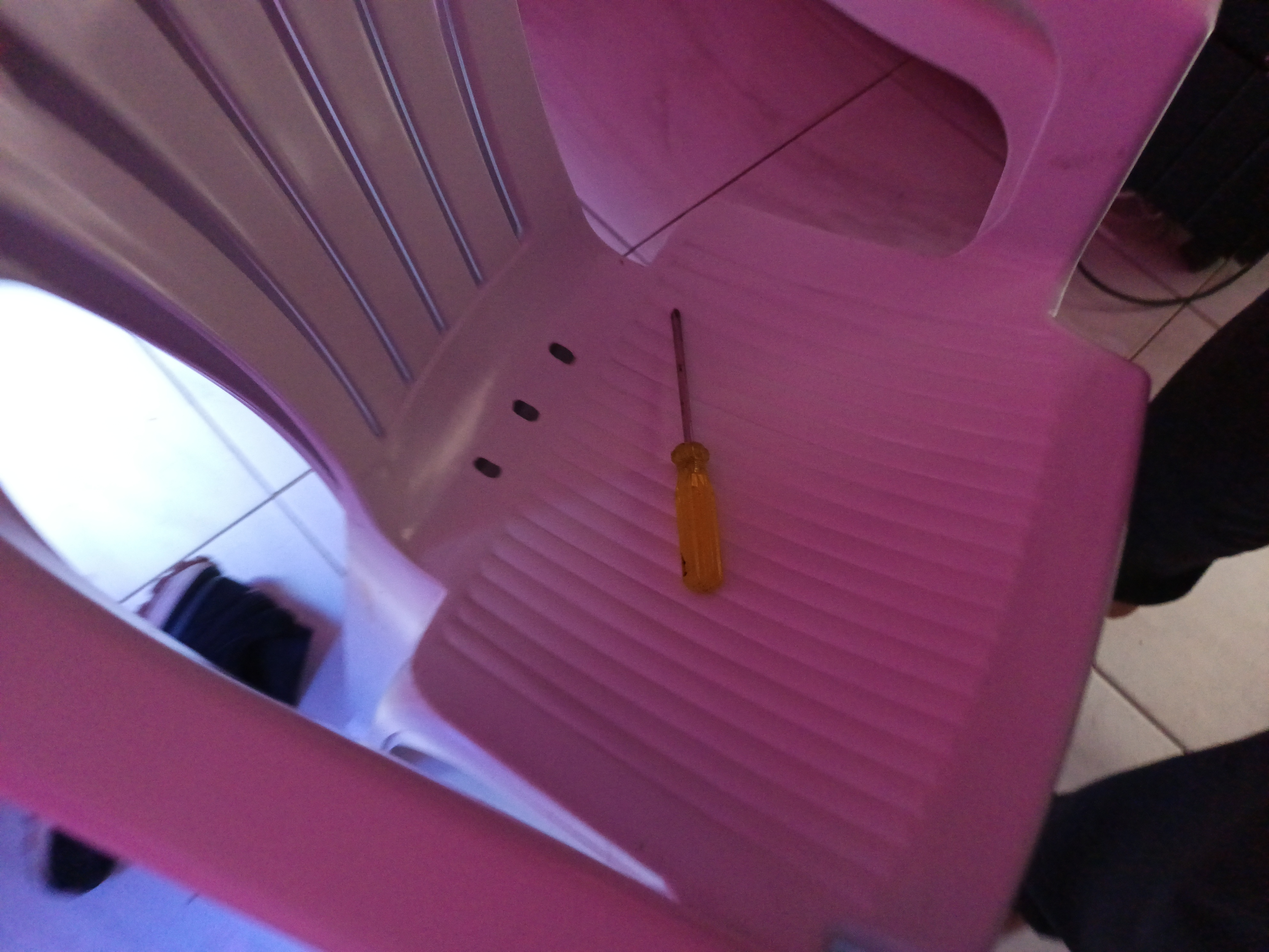Destornillador: (671, 309, 724, 592)
